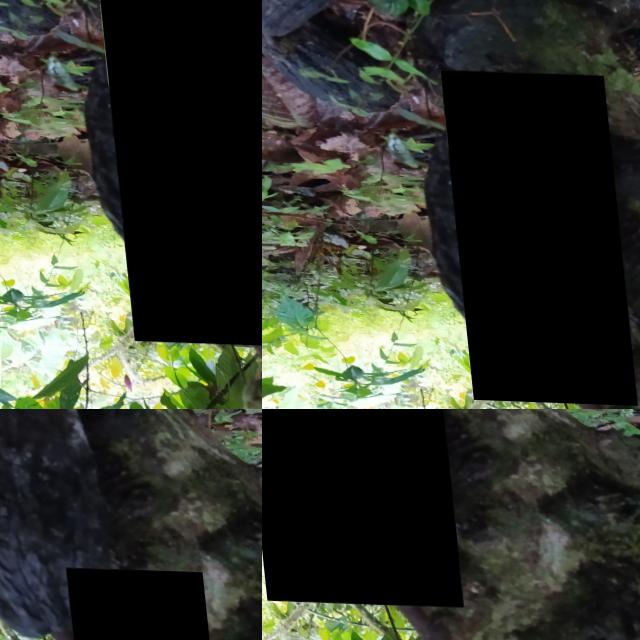Fitoftora: (437, 68, 628, 403), (262, 409, 454, 604)
Monilia: (0, 410, 159, 542)
Sana: (95, 0, 262, 345), (57, 564, 212, 640), (487, 0, 566, 100), (389, 37, 462, 141), (0, 409, 68, 491), (474, 0, 547, 22), (580, 369, 613, 409)
